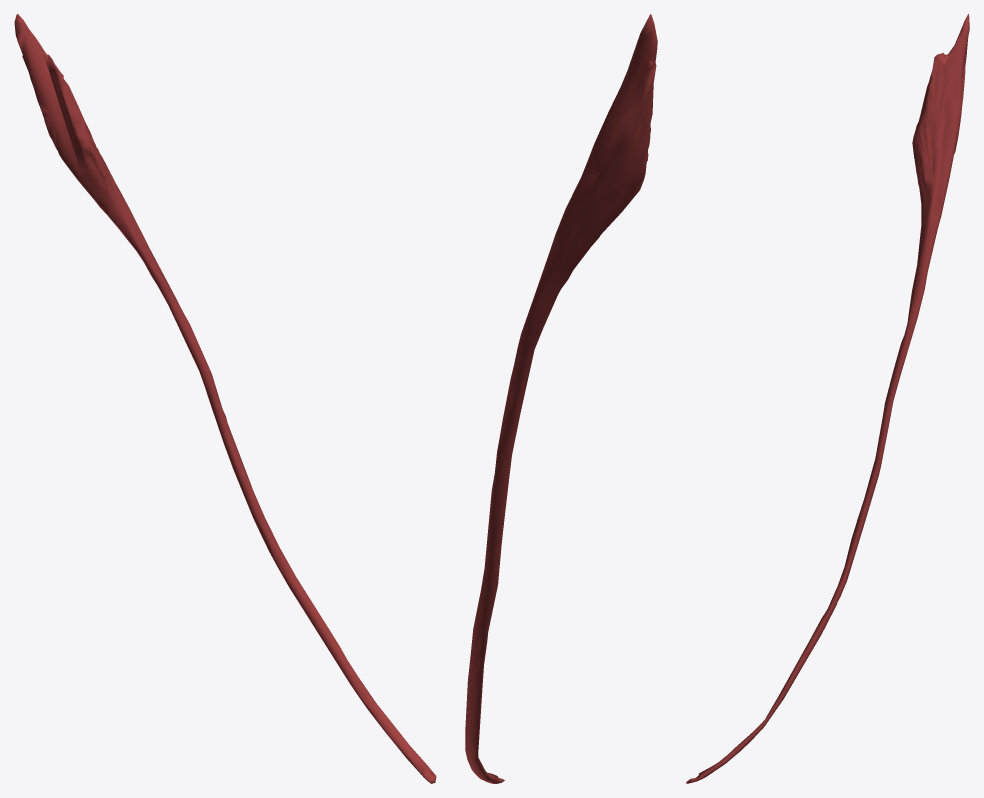
The model's file is extensor-indicis-l.glb.
The picture shows the model from 3 angles, left to right: view 1: azimuth 30°, elevation 25°; view 2: azimuth 150°, elevation 25°; view 3: azimuth 270°, elevation 25°; orthographic projection. The views are drawn at different scales.
Parts seen in each view (by area): view 1: Extensor indicis.l; view 2: Extensor indicis.l; view 3: Extensor indicis.l.
Part boxes in pixels (x1,y1,x2,y2): Extensor indicis.l: (14,14,436,783); Extensor indicis.l: (465,14,657,783); Extensor indicis.l: (686,14,969,783).
Bounding box in the file's own units: 0.0807 × 0.206 × 0.0811.
